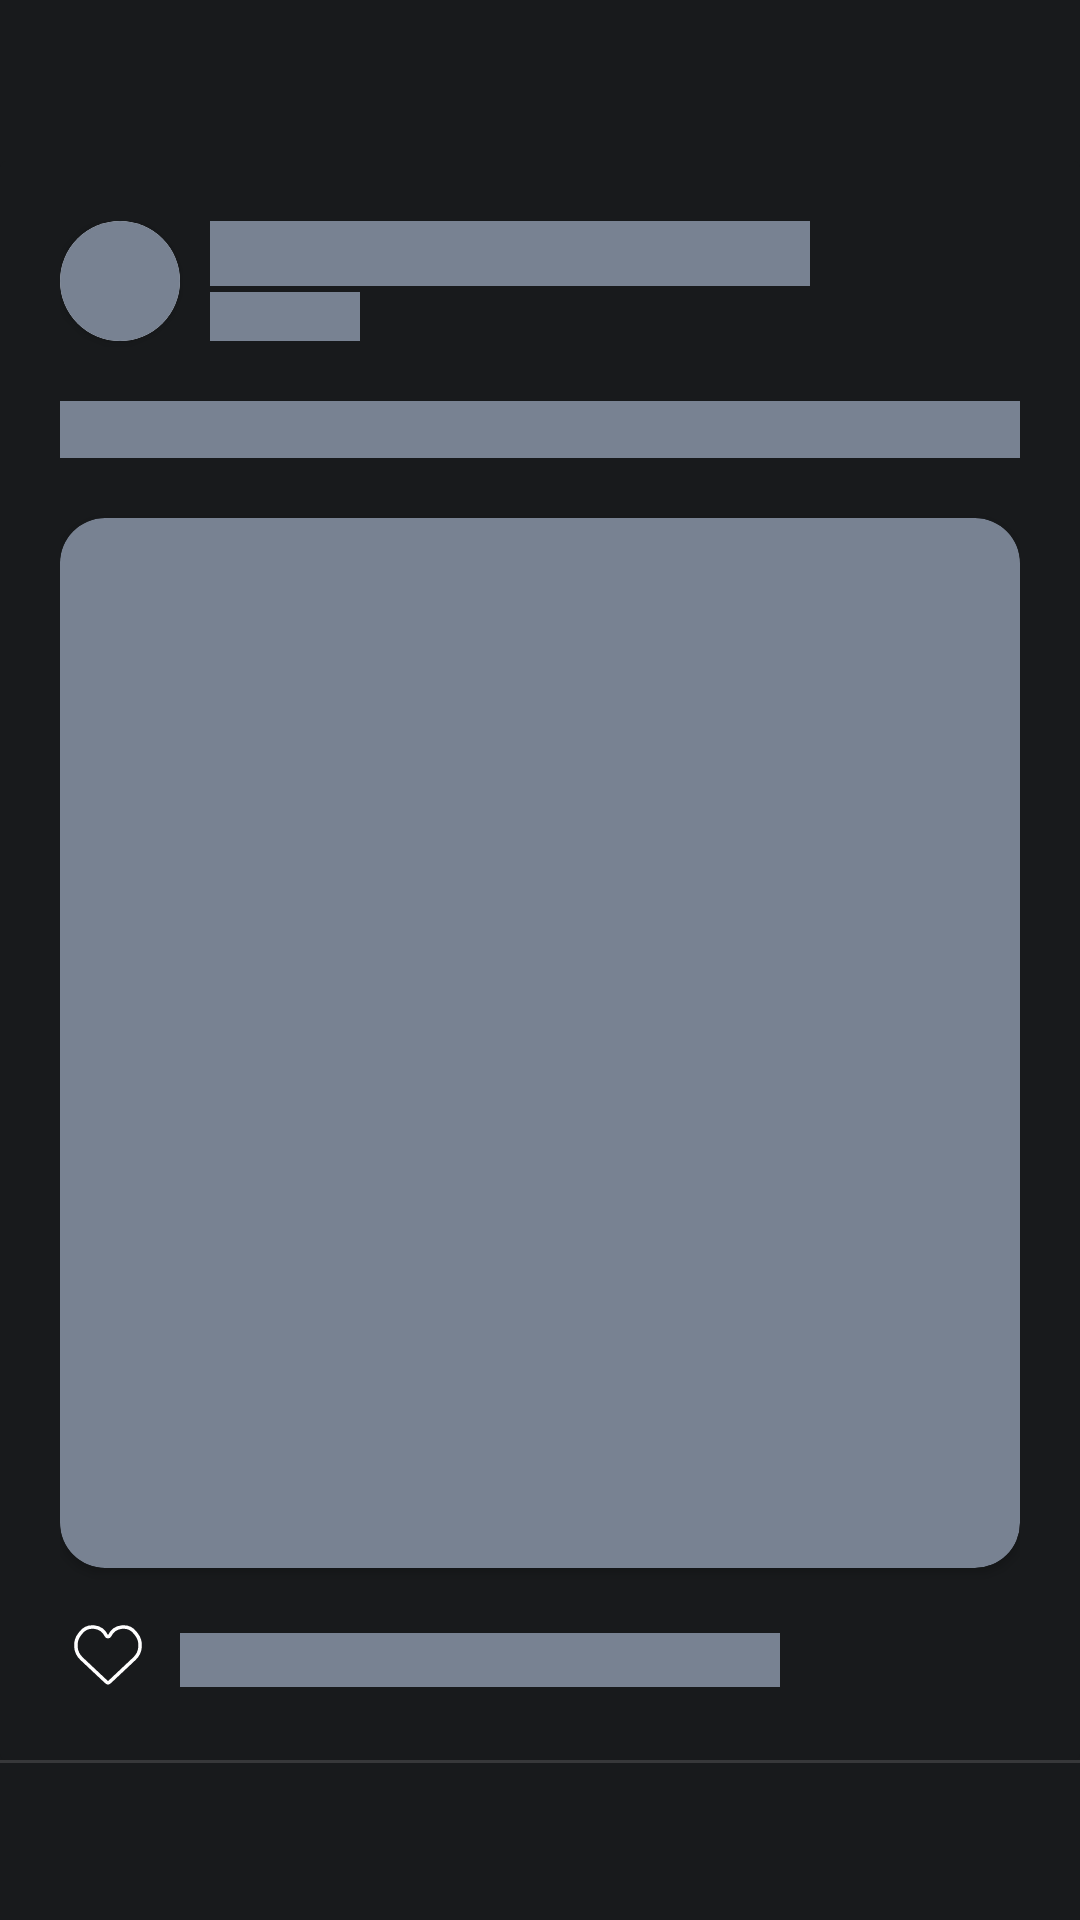

Icons on this 1080×1920 Android screen, each with the point to tap as (x=x, y=y):
favorite: (x=108, y=1655)
